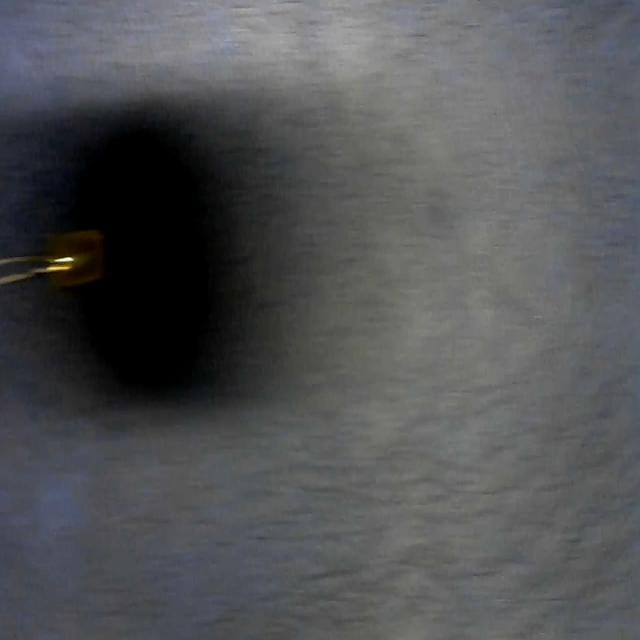LED: (0, 222, 101, 301)
